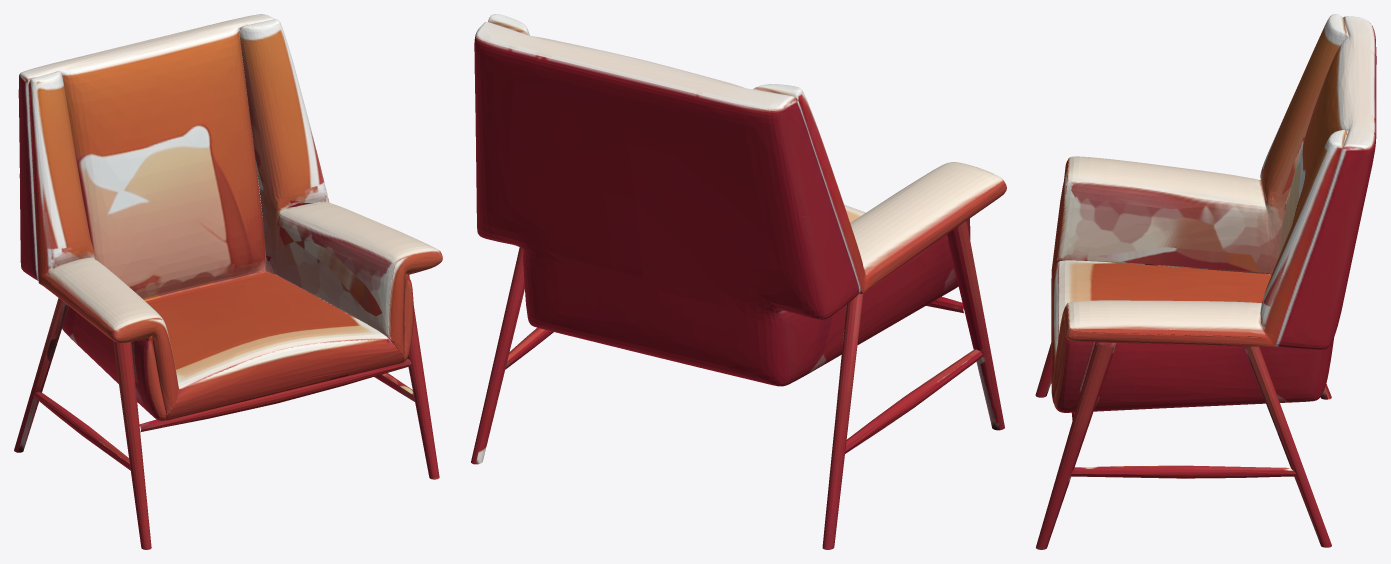
File: edited_mesh.glb
3 views of the same model, side by side, from view 1: azimuth 30°, elevation 25°; view 2: azimuth 150°, elevation 25°; view 3: azimuth 270°, elevation 25° (orthographic). The views are drawn at different scales.
Parts seen in each view (by area): view 1: solid_001_wire; view 2: solid_001_wire; view 3: solid_001_wire.
Boxes of the visible parts, x1,y1,x2,y2 form: solid_001_wire: (14, 14, 442, 549); solid_001_wire: (471, 14, 1006, 549); solid_001_wire: (1035, 14, 1376, 549).
Size of the model in its own units: 1.29 by 1.36 by 1.06.
1 material, 1 textured.
